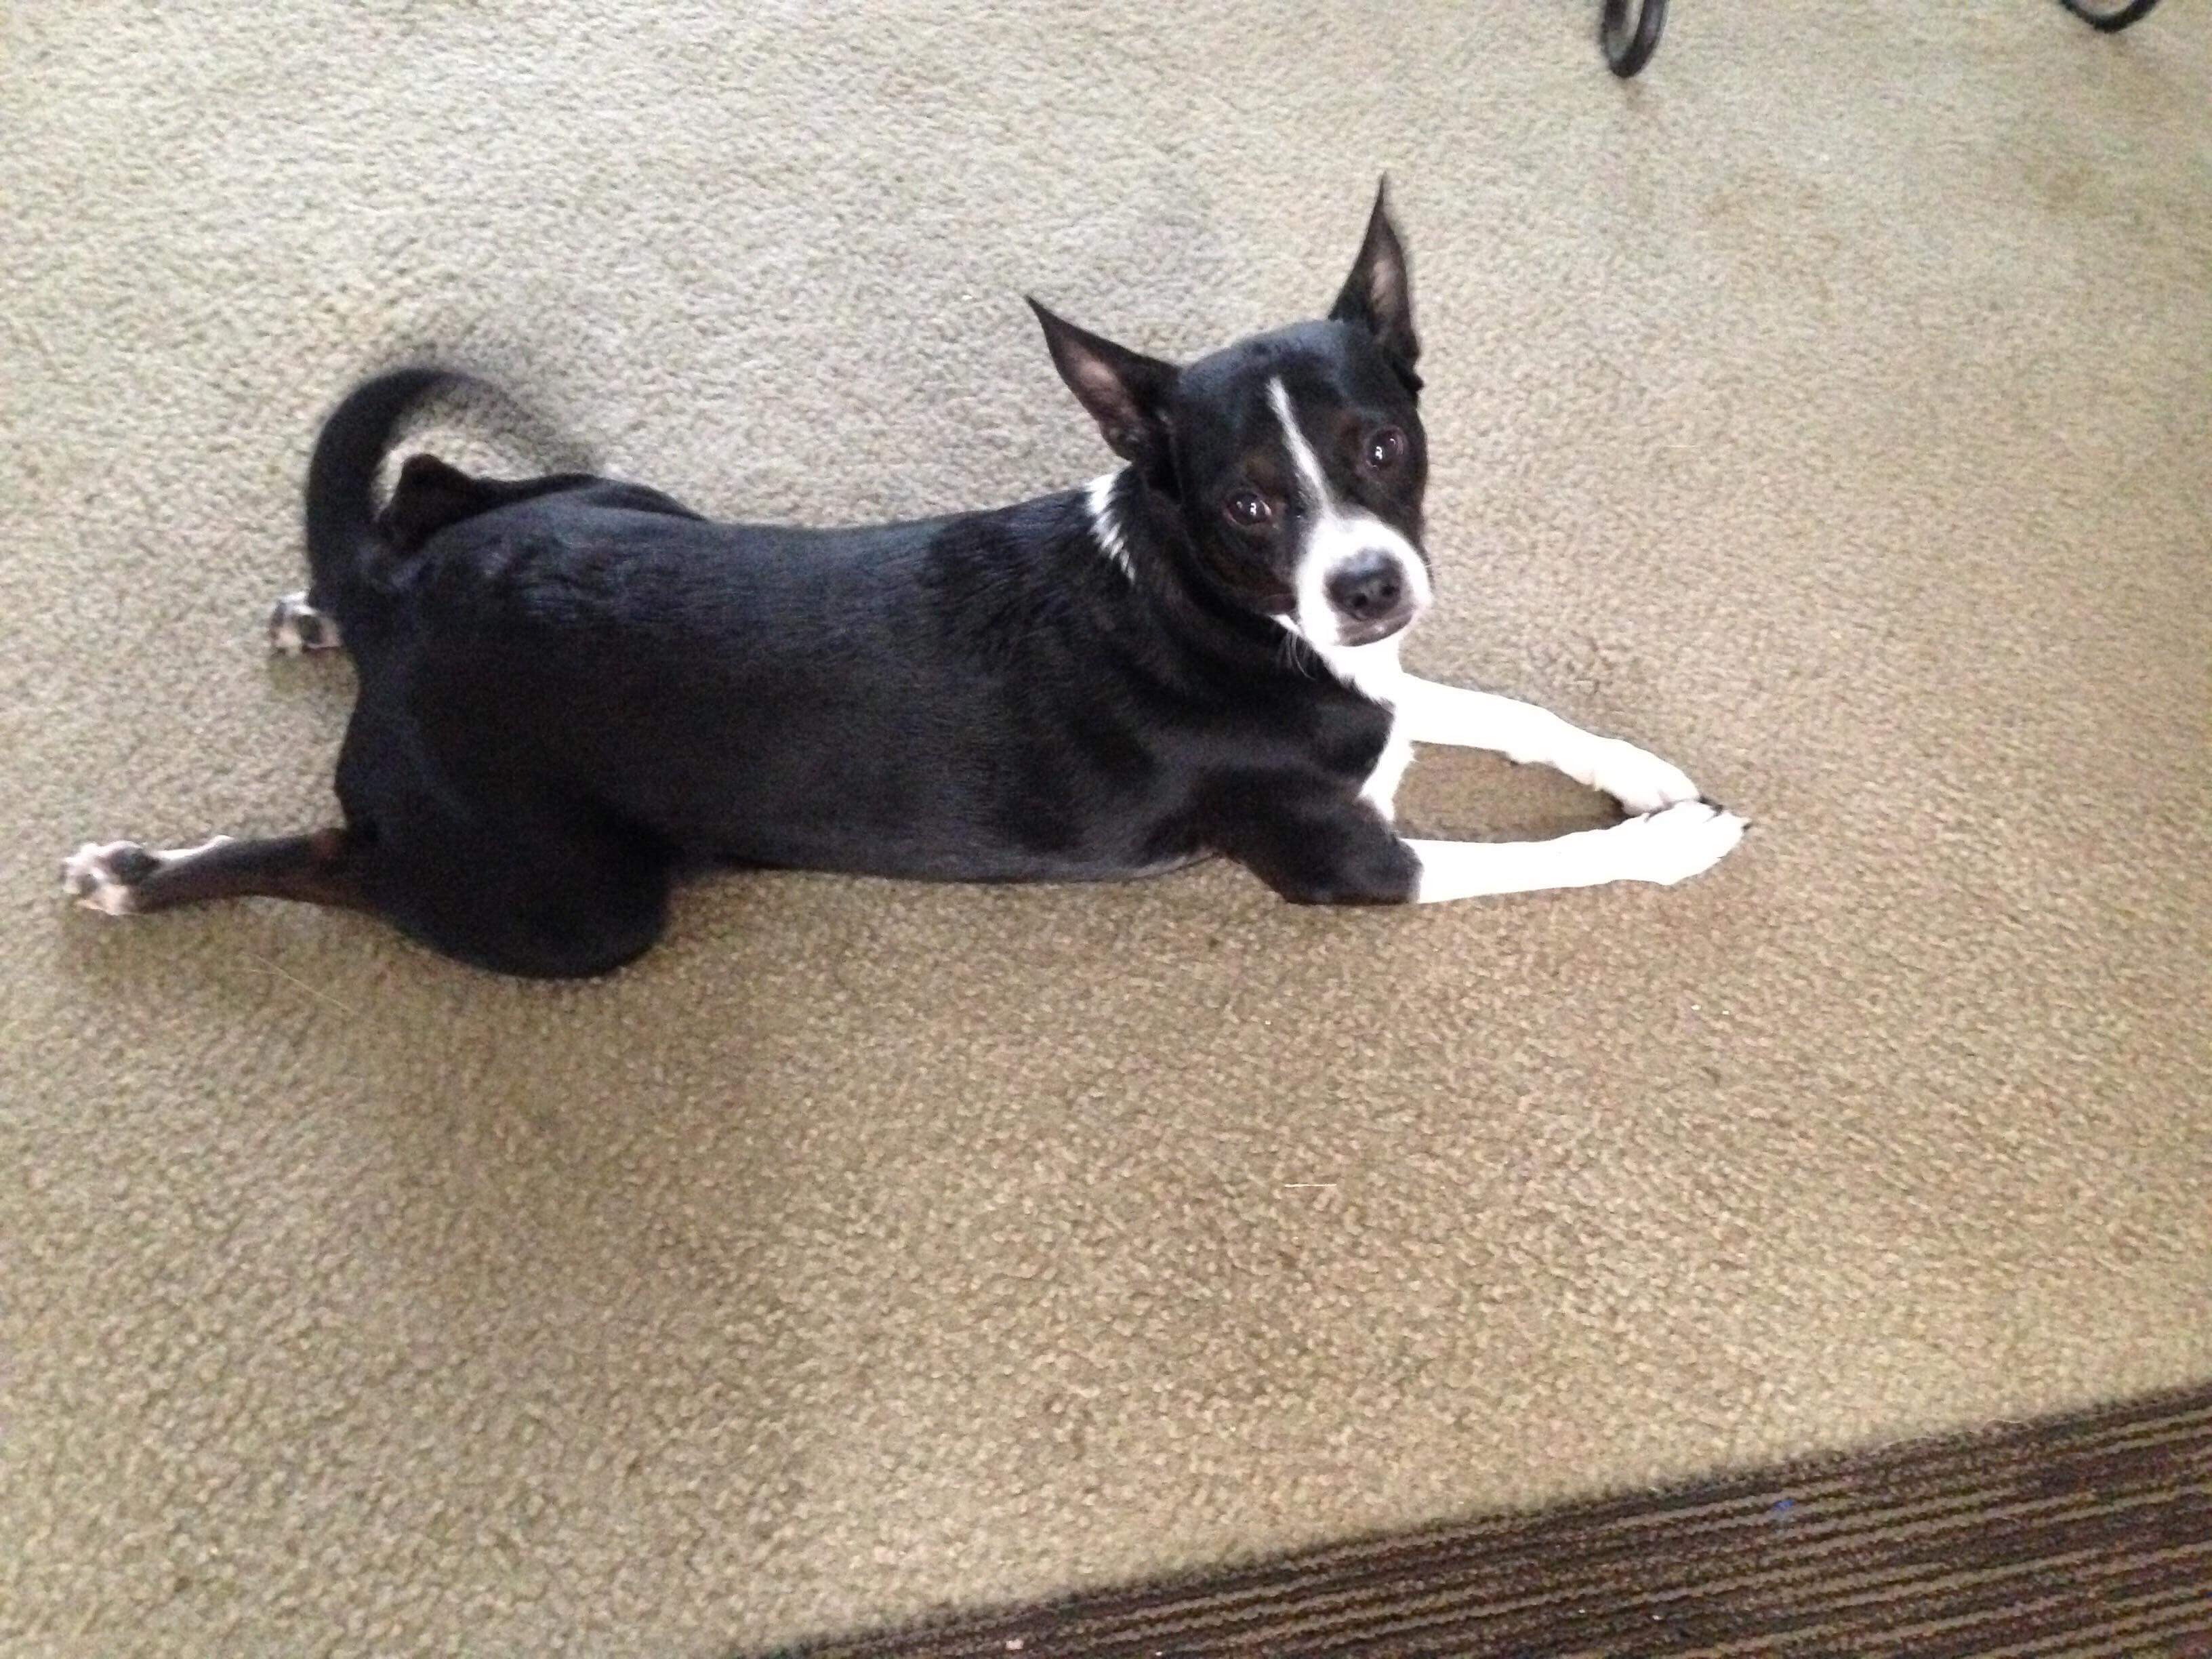Harley: (61, 152, 1745, 993)
